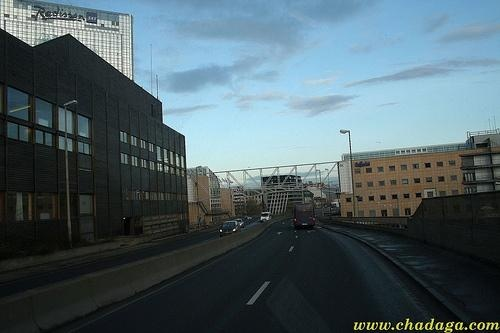car: (291, 211, 318, 233), (219, 220, 241, 237), (259, 212, 274, 224)
